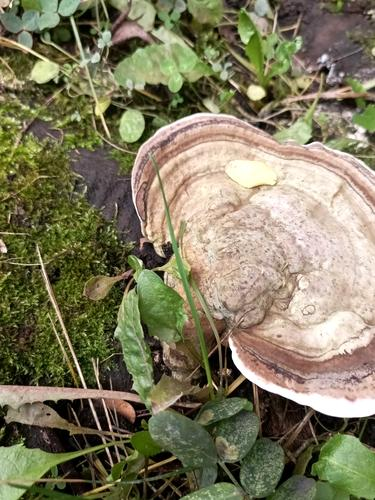Ganoderma - Fruit Body: (130, 110, 375, 418)
